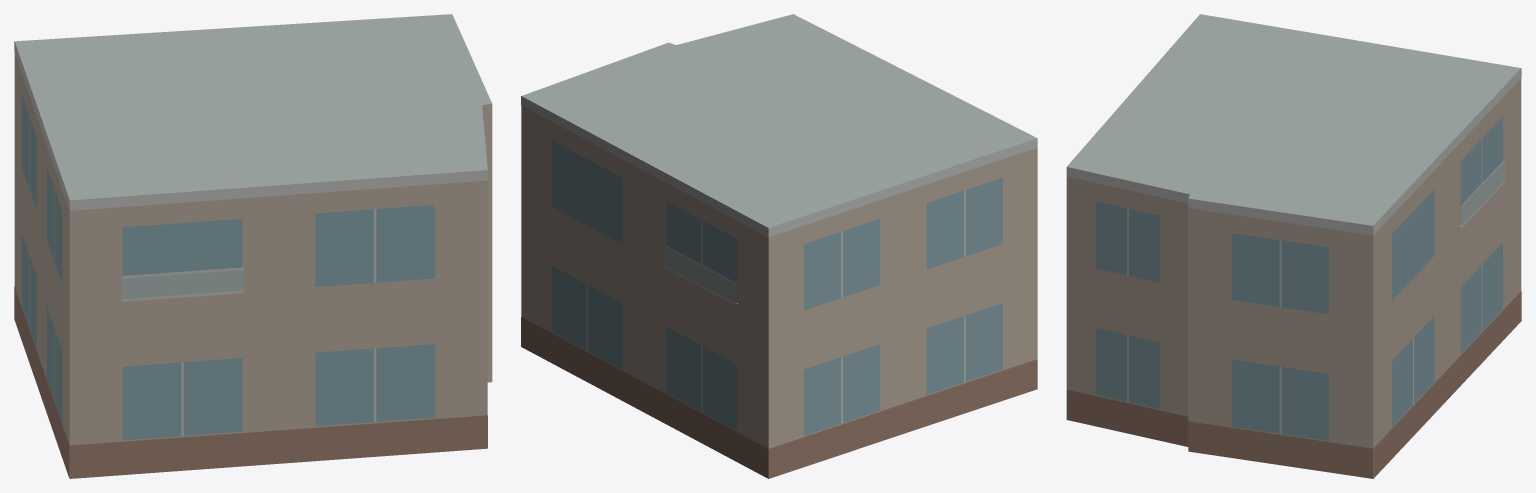
The model's file is survey-upis-32493526.glb.
The picture shows the model from 3 angles, left to right: view 1: azimuth 30°, elevation 25°; view 2: azimuth 150°, elevation 25°; view 3: azimuth 270°, elevation 25°; orthographic projection. The views are drawn at different scales.
Visible parts, largest first — view 1: survey-upis-32493526.tmp; view 2: survey-upis-32493526.tmp; view 3: survey-upis-32493526.tmp.
Part boxes in pixels (bbox=[...]): survey-upis-32493526.tmp: bbox=[14, 14, 492, 478]; survey-upis-32493526.tmp: bbox=[521, 14, 1037, 478]; survey-upis-32493526.tmp: bbox=[1066, 14, 1521, 478].
Bounding box in the file's own units: 11.69 × 6.5 × 10.6.
